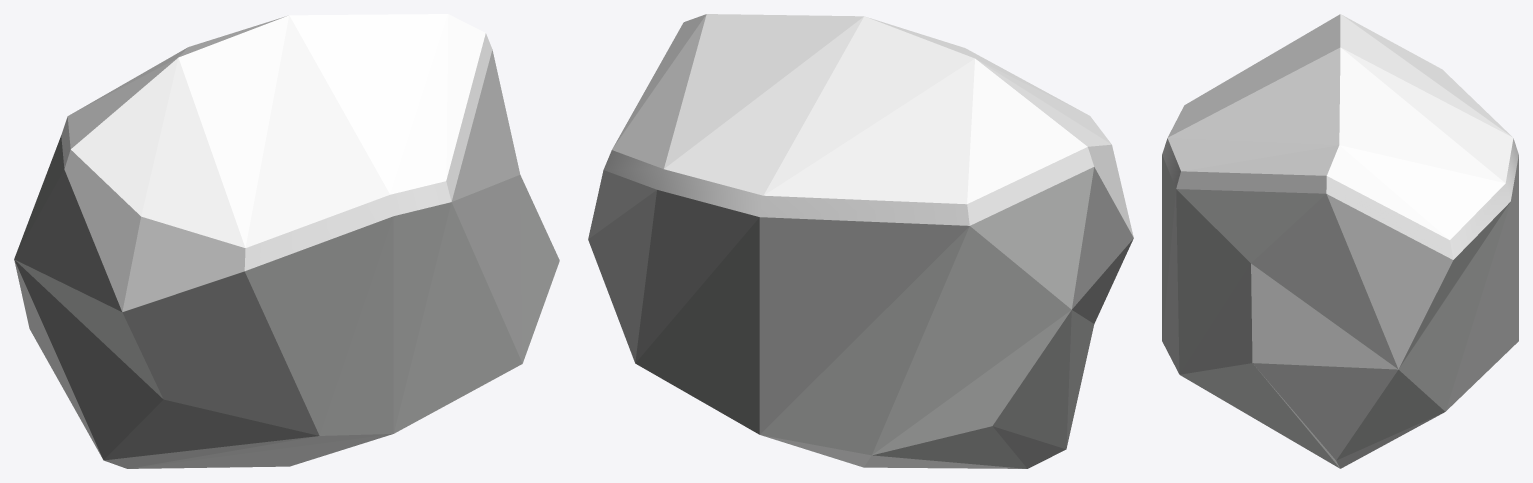
Rendered from Rock_Mid_Snow_3.fbx.
3 views of the same model, side by side, from view 1: azimuth 30°, elevation 25°; view 2: azimuth 150°, elevation 25°; view 3: azimuth 270°, elevation 25° (orthographic). The views are drawn at different scales.
Parts seen in each view (by area): view 1: Rock_Mid_Snow_3; view 2: Rock_Mid_Snow_3; view 3: Rock_Mid_Snow_3.
Part boxes in pixels (x1,y1,x2,y2): Rock_Mid_Snow_3: [14, 14, 559, 468]; Rock_Mid_Snow_3: [588, 14, 1133, 468]; Rock_Mid_Snow_3: [1162, 14, 1518, 468].
Bounding box in the file's own units: 2.32 × 2.07 × 1.73.
